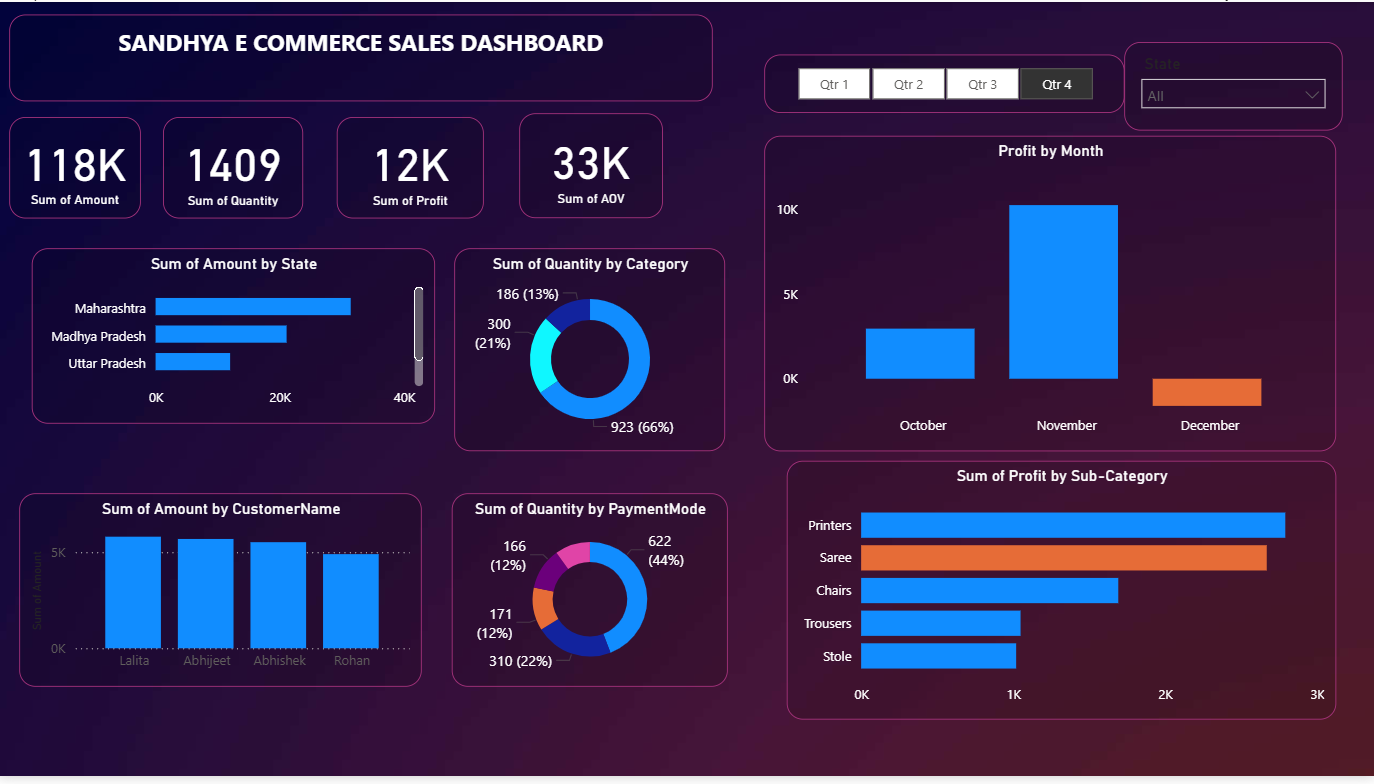

Layout of this report page (visuals, bound fields, positions):
{"tool":"powerbi","page":{"name":"Page 1","canvas":[1280,720],"ordinal":0},"visuals":[{"type":"textbox","box":[10,11.1,654.4,81.1],"z":0},{"type":"columnChart","title":"Profit by Month","fields":{"Y":["Details.Profit"],"Category":["Orders.Order Date.Variation.Date Hierarchy.Month"]},"box":[712.2,124.4,532.2,293.3],"z":1000},{"type":"barChart","fields":{"Category":["Details.Sub-Category"],"Y":["Details.Profit"]},"box":[733.3,426.7,511.1,241.1],"z":2000},{"type":"donutChart","fields":{"Y":["Details.Quantity"],"Category":["Details.PaymentMode"]},"box":[422.2,456.7,256.7,180],"z":3000},{"type":"donutChart","fields":{"Category":["Details.Category"],"Y":["Details.Quantity"]},"box":[424.4,228.9,252.2,188.9],"z":4000},{"type":"card","fields":{"Values":["Details.Amount"]},"box":[10,107,122,94],"z":5000},{"type":"card","fields":{"Values":["Details.Quantity"]},"box":[153.3,106.7,130,94.4],"z":6000},{"type":"card","fields":{"Values":["Details.Profit"]},"box":[315.6,106.7,136.7,94.4],"z":7000},{"type":"card","fields":{"Values":["Details.AOV"]},"box":[484.4,103.3,133.3,97.8],"z":8000},{"type":"barChart","fields":{"Category":["Orders.State"],"Y":["Details.Amount"]},"box":[31,229,375,163],"z":9000},{"type":"columnChart","fields":{"Category":["Orders.CustomerName"],"Y":["Details.Amount"]},"box":[20,456.7,374.4,180],"z":10000},{"type":"slicer","fields":{"Values":["Orders.Order Date.Variation.Date Hierarchy.Quarter"]},"box":[712.2,48.9,335.6,54.4],"z":11000},{"type":"slicer","fields":{"Values":["Orders.State"]},"box":[1047.8,36.7,203.3,82.2],"z":12000}]}

Visuals, with their boxes in screenshot pixels (x1, y1, x2, y2), scaled from the page's 1280x720 canvas onto the 1374x784 screenshot:
textbox: 11:12:713:100
"Profit by Month" columnChart: 765:135:1336:455
barChart - Details.Sub-Category x Details.Profit: 787:465:1336:727
donutChart - Details.Quantity x Details.PaymentMode: 453:497:729:693
donutChart - Details.Category x Details.Quantity: 456:249:726:455
card - Details.Amount: 11:117:142:219
card - Details.Quantity: 165:116:304:219
card - Details.Profit: 339:116:486:219
card - Details.AOV: 520:112:663:219
barChart - Orders.State x Details.Amount: 33:249:436:427
columnChart - Orders.CustomerName x Details.Amount: 21:497:423:693
slicer - Orders.Order Date.Variation.Date Hierarchy.Quarter: 765:53:1125:112
slicer - Orders.State: 1125:40:1343:129
